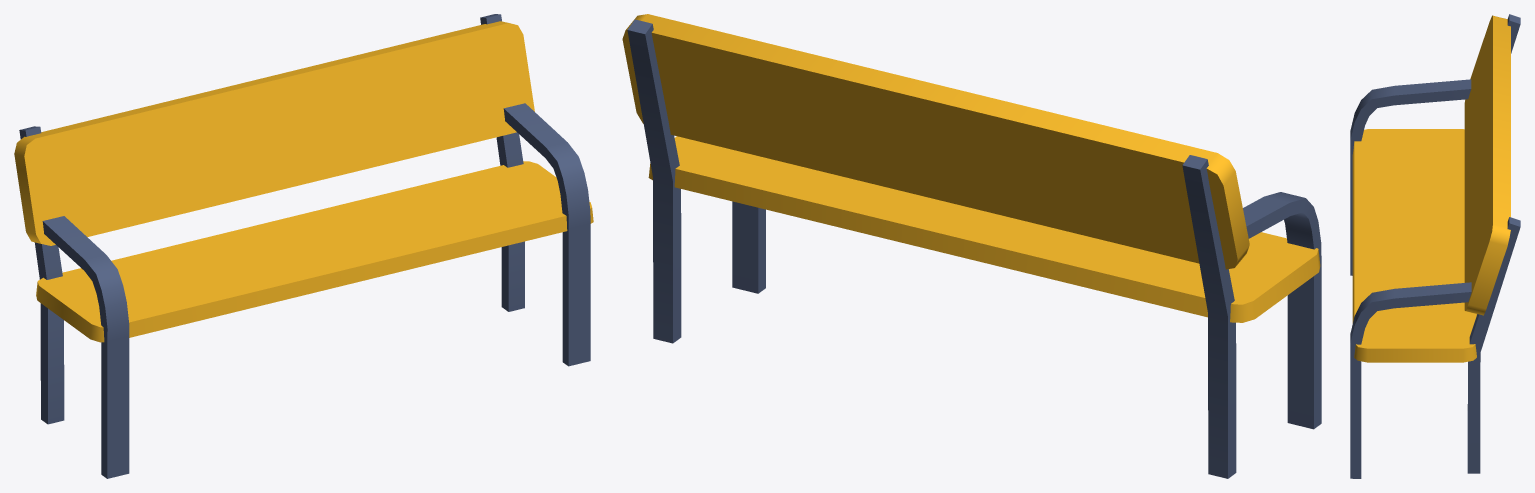
The model's file is bench2.fbx.
3 renders of one model, left to right at view 1: azimuth 30°, elevation 25°; view 2: azimuth 150°, elevation 25°; view 3: azimuth 270°, elevation 25°, orthographic. The views are drawn at different scales.
Parts seen in each view (by area): view 1: bench; view 2: bench; view 3: bench.
Part boxes in pixels (x1,y1,x2,y2): bench: (14, 14, 593, 478); bench: (622, 14, 1321, 478); bench: (1350, 14, 1520, 478).
Size of the model in its own units: 4.18 by 2.25 by 1.36.
